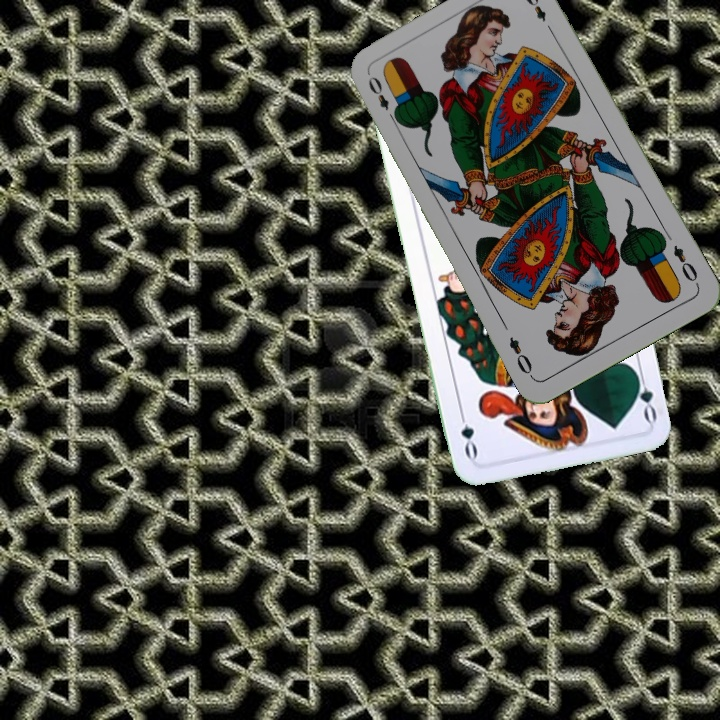EO: (364, 72, 401, 126), (669, 241, 702, 289)
GO: (630, 365, 660, 425)
